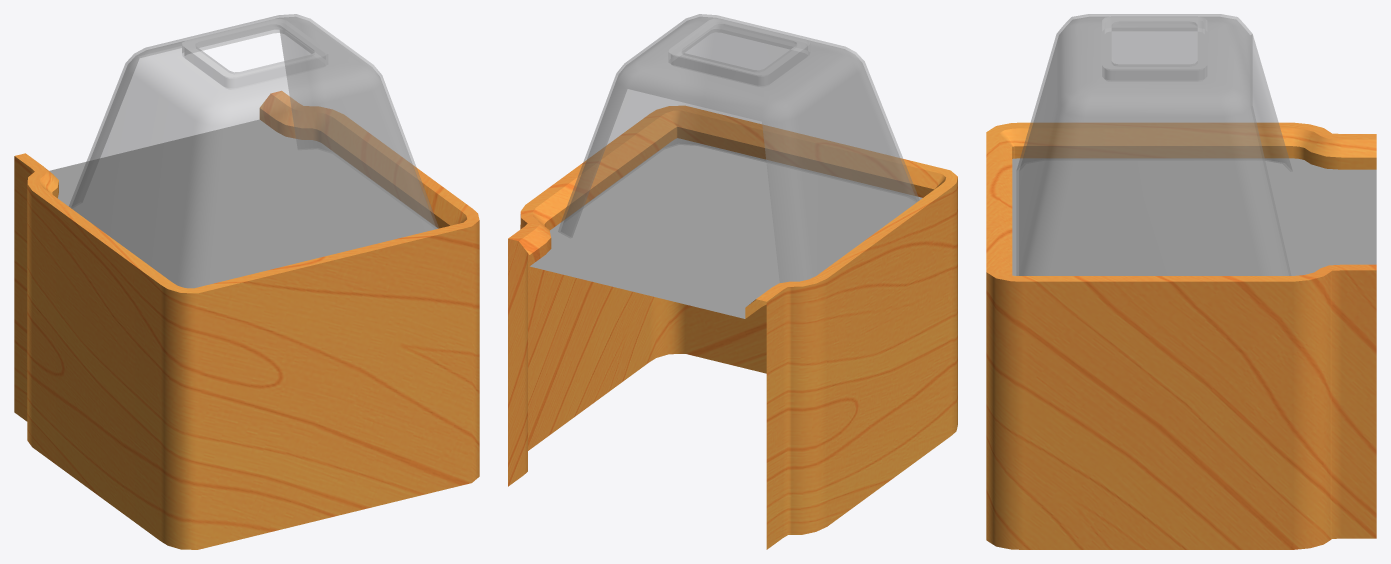
File: ConveyorBeltInOut.fbx
3 views of the same model, side by side, from view 1: azimuth 30°, elevation 25°; view 2: azimuth 150°, elevation 25°; view 3: azimuth 270°, elevation 25° (orthographic). The views are drawn at different scales.
Visible parts, largest first — view 1: in_out; view 2: in_out; view 3: in_out.
Boxes of the visible parts, bbox=[...] form: in_out: bbox=[14, 14, 479, 549]; in_out: bbox=[508, 14, 957, 549]; in_out: bbox=[986, 14, 1376, 549].
Bounding box in the file's own units: 1.4 × 1.75 × 1.45.
